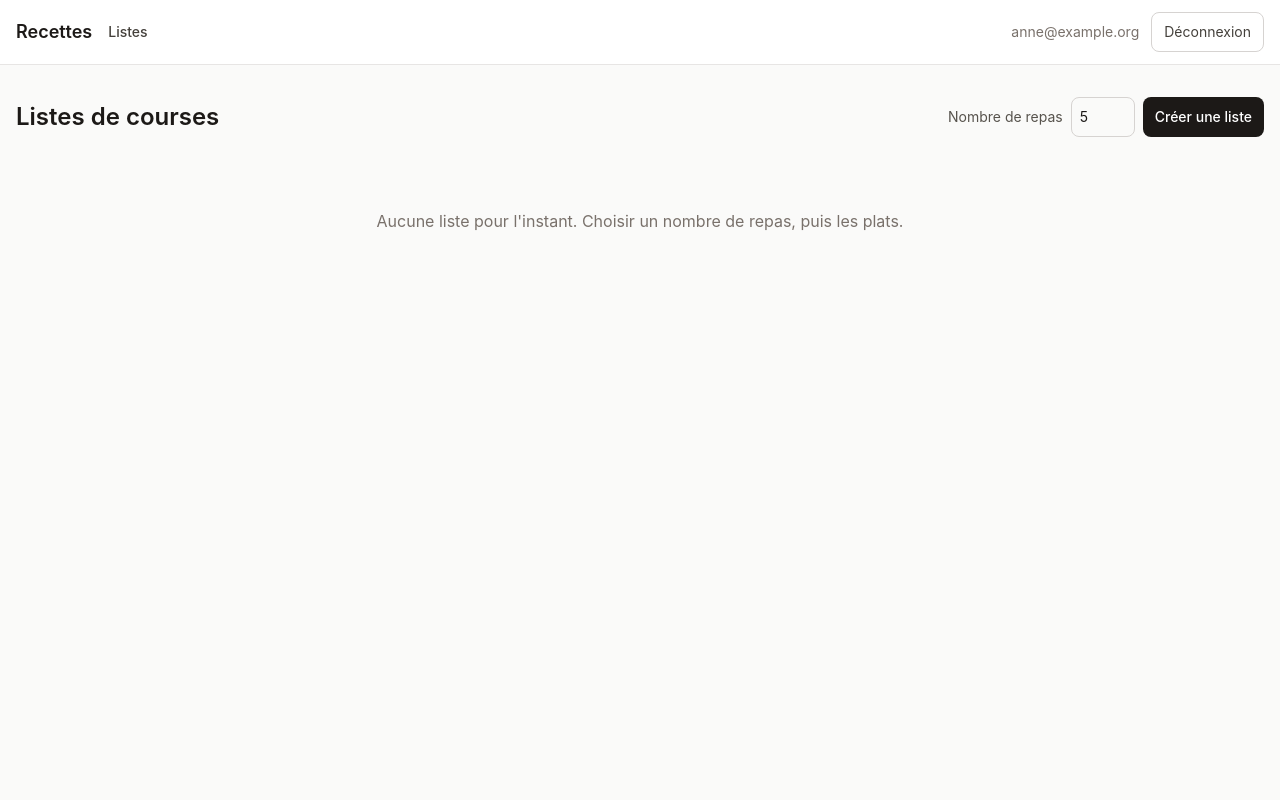
listes de courses › créer tire le nombre de repas saisi
expect the text "Aucune liste" is shown: met, box [376,211,903,231]
Replace the text in the number field labelled "Nombre de repas" with "2" at (1103, 117), box [1071,97,1135,137]
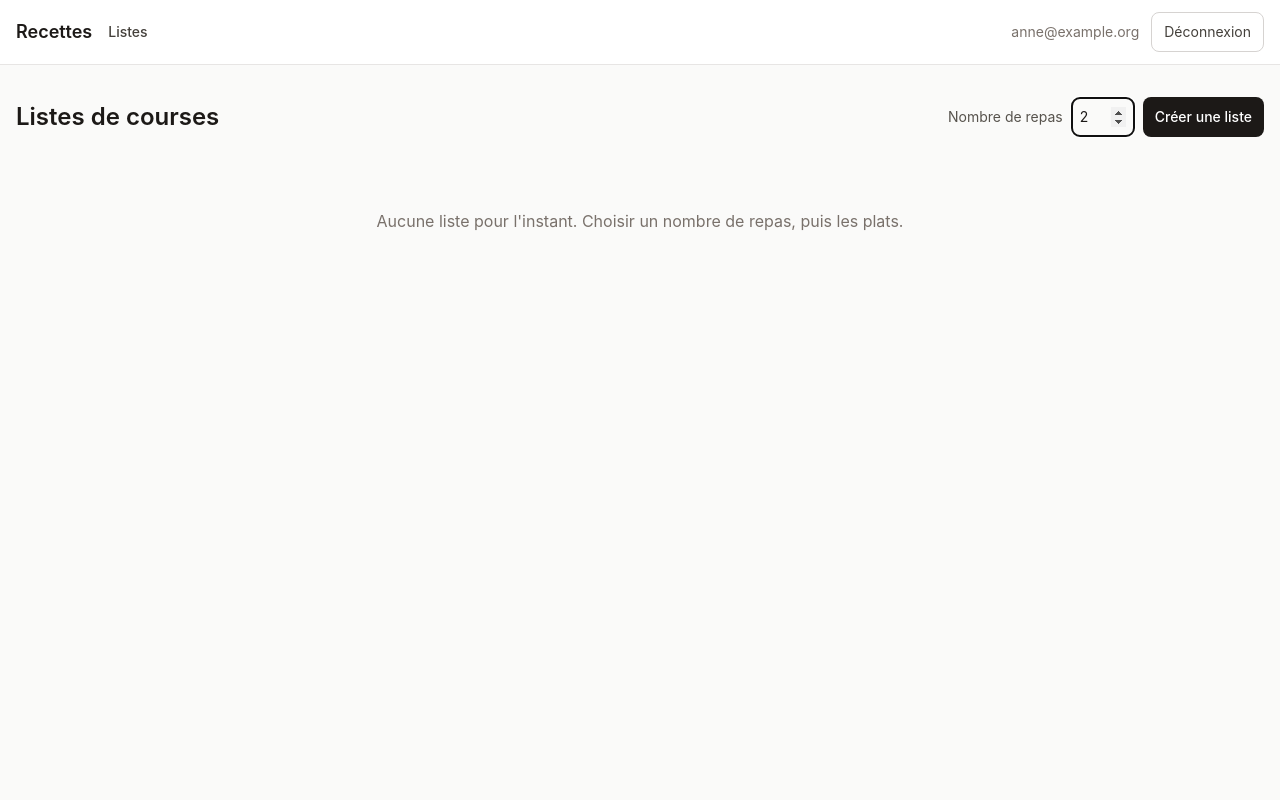
Click the button "Créer une liste" at (1203, 117), box [1143,97,1264,137]
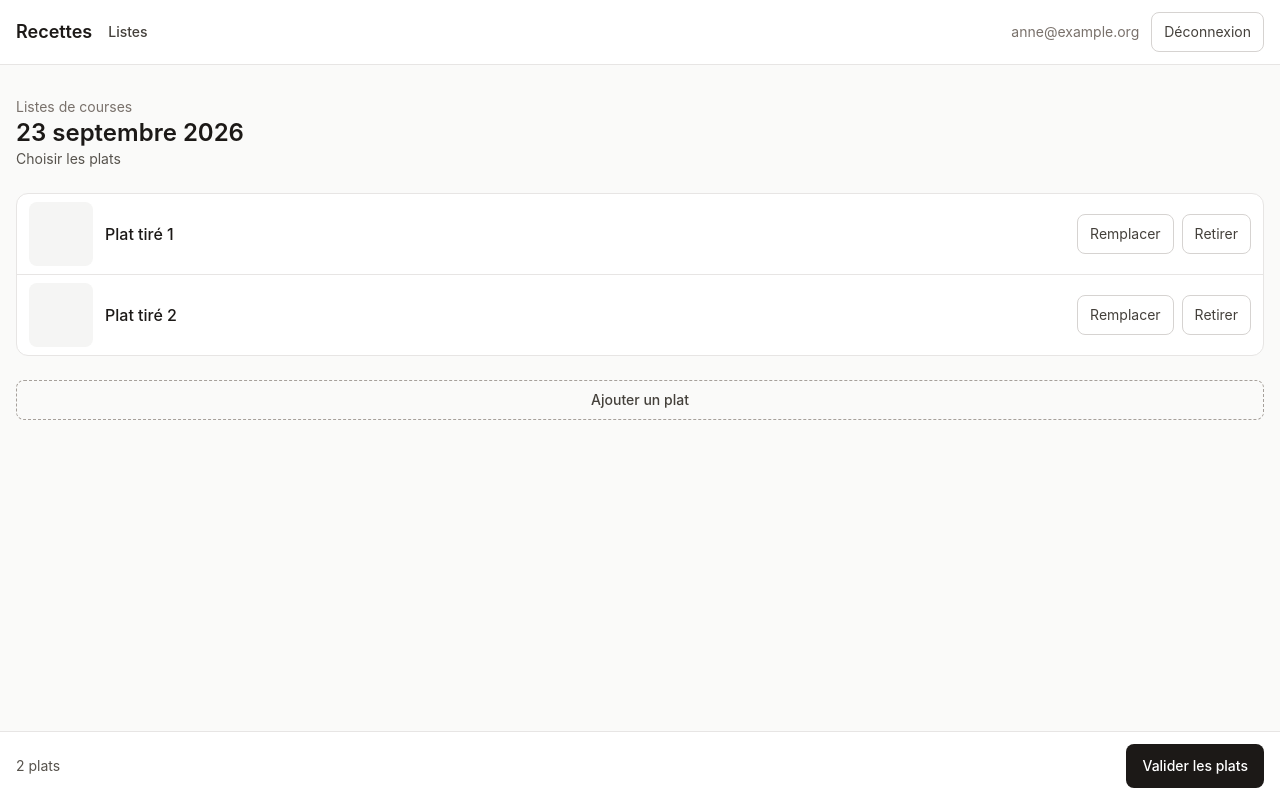
expect the text "Plat tiré 2" is shown: met, box [105,303,177,327]
